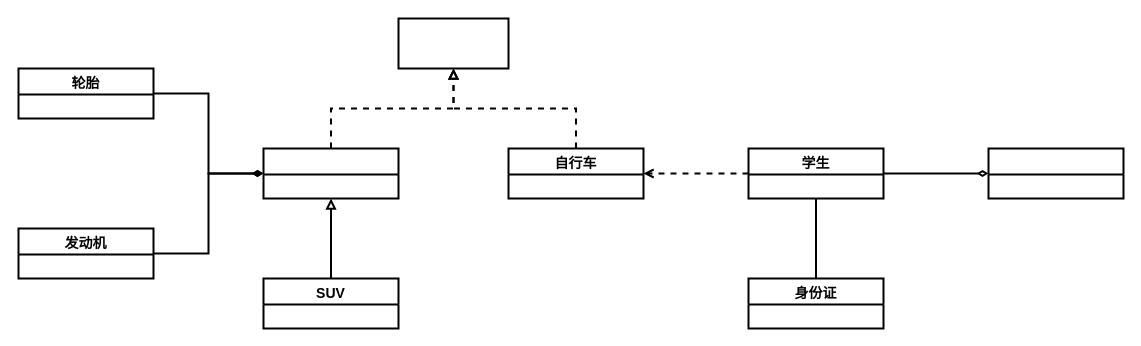
The diagram is 1141 pixels wide and 346 high, and some of its shapes have lost their labels. Here are the shapes that lost their labels. From the top down, the centre of each, then its label:
the point at 453,43: «abstract» 车
the point at 330,173: 小汽车
the point at 1055,173: 班级
